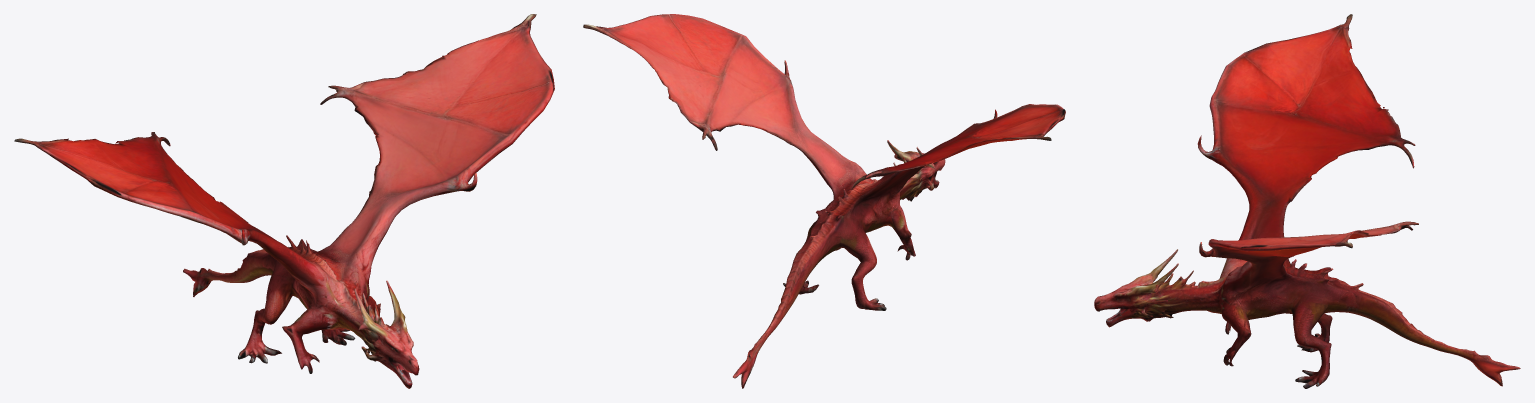
The model's file is dragon.obj.
3 views of the same model, side by side, from view 1: azimuth 30°, elevation 25°; view 2: azimuth 150°, elevation 25°; view 3: azimuth 270°, elevation 25° (orthographic). The views are drawn at different scales.
Visible parts, largest first — view 1: Huge_Red_Flying_drago_0109150800_texture; view 2: Huge_Red_Flying_drago_0109150800_texture; view 3: Huge_Red_Flying_drago_0109150800_texture.
Part boxes in pixels (x1,y1,x2,y2): Huge_Red_Flying_drago_0109150800_texture: (14, 14, 554, 388); Huge_Red_Flying_drago_0109150800_texture: (583, 14, 1065, 388); Huge_Red_Flying_drago_0109150800_texture: (1094, 14, 1520, 388).
Size of the model in its own units: 2.01 by 1.04 by 1.56.
Materials: 1 (1 with a texture image).
